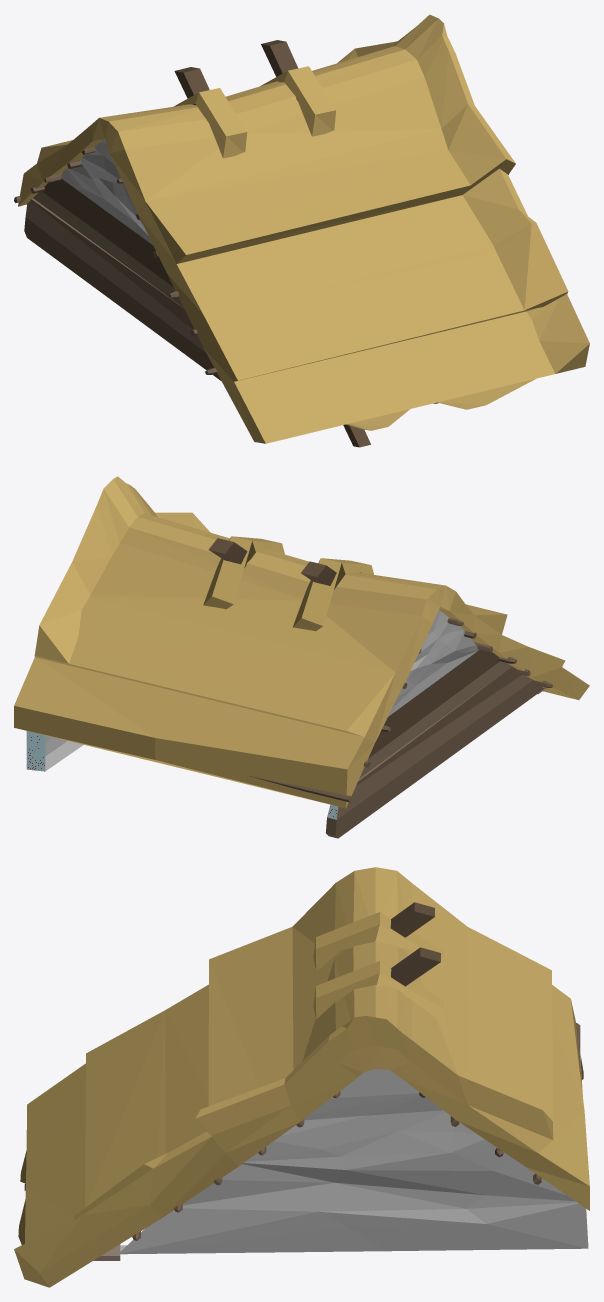
The model's file is EA03_Village_Hut_Roof_Cut_01d.glb.
The picture shows the model from 3 angles, top to bottom: view 1: azimuth 30°, elevation 25°; view 2: azimuth 150°, elevation 25°; view 3: azimuth 270°, elevation 25°; orthographic projection. The views are drawn at different scales.
Parts seen in each view (by area): view 1: EA03_Village_Hut_Roof_Cut_01d; view 2: EA03_Village_Hut_Roof_Cut_01d; view 3: EA03_Village_Hut_Roof_Cut_01d.
Boxes of the visible parts, x1,y1,x2,y2 form: EA03_Village_Hut_Roof_Cut_01d: (14, 14, 589, 447); EA03_Village_Hut_Roof_Cut_01d: (14, 476, 589, 838); EA03_Village_Hut_Roof_Cut_01d: (14, 867, 589, 1287).
Size of the model in its own units: 6.95 by 5.22 by 9.11.
1 material, 1 textured.
